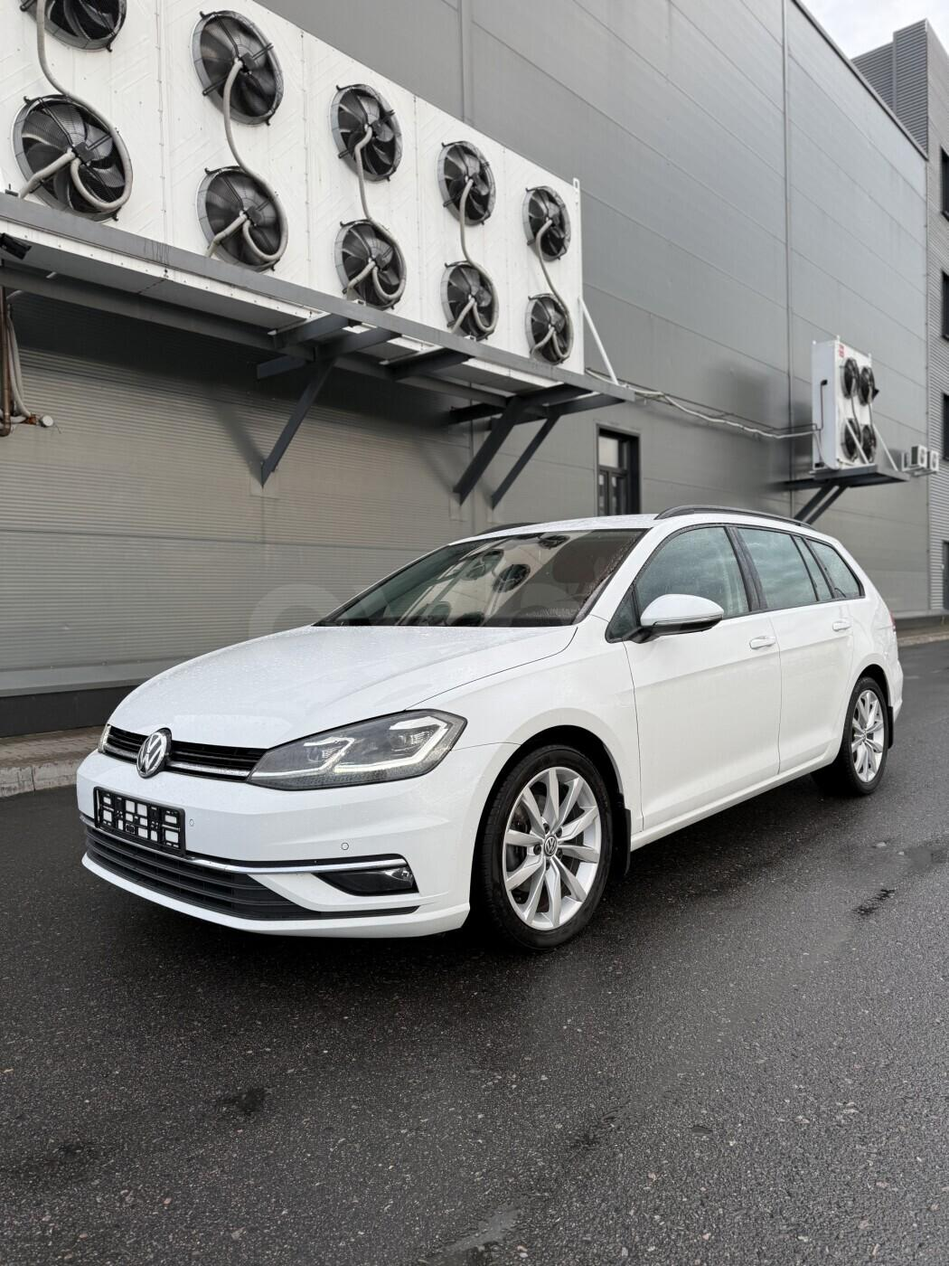Golf_2012-2017: (50, 507, 907, 960)
